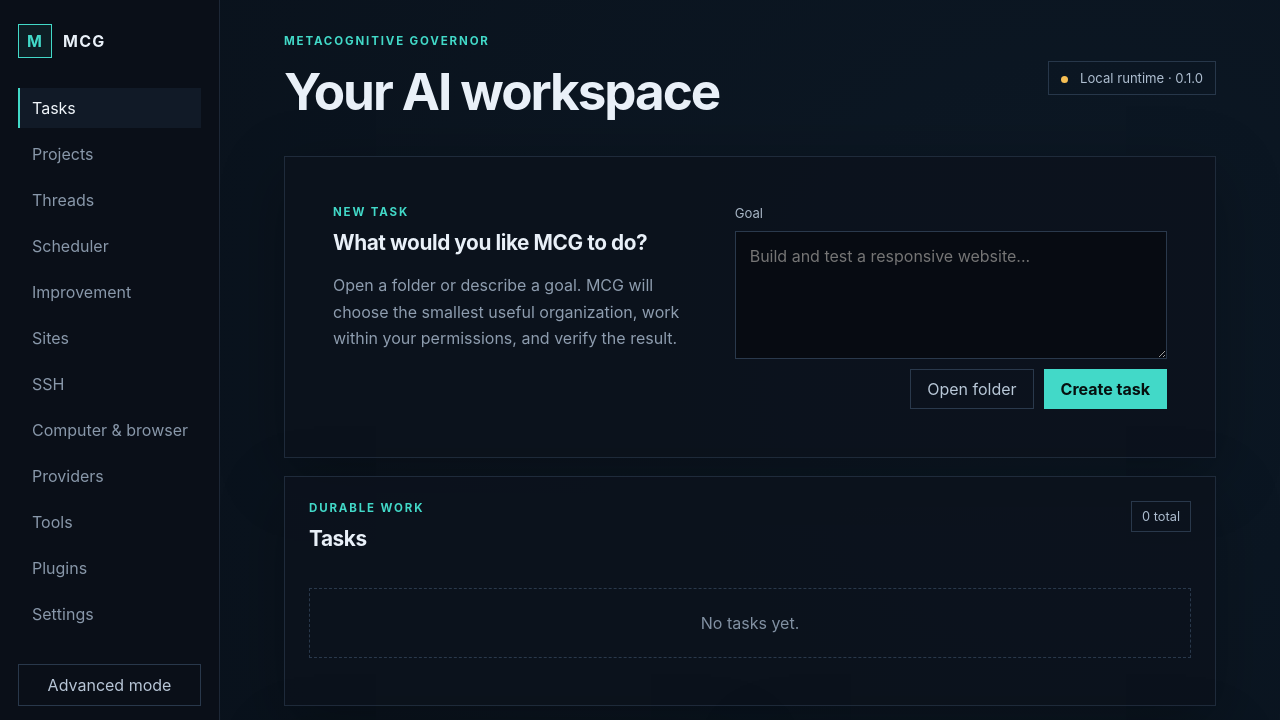
Scenario: encrypted credential backups are opt-in advanced actions with passphrase confirmation
This screenshot has width=1280, height=720.
Expected: the field labelled "Encrypted credential backup" is not shown
Click the button "Advanced mode": coordinates (110, 685) [18,664,201,706]
(page scrolled)
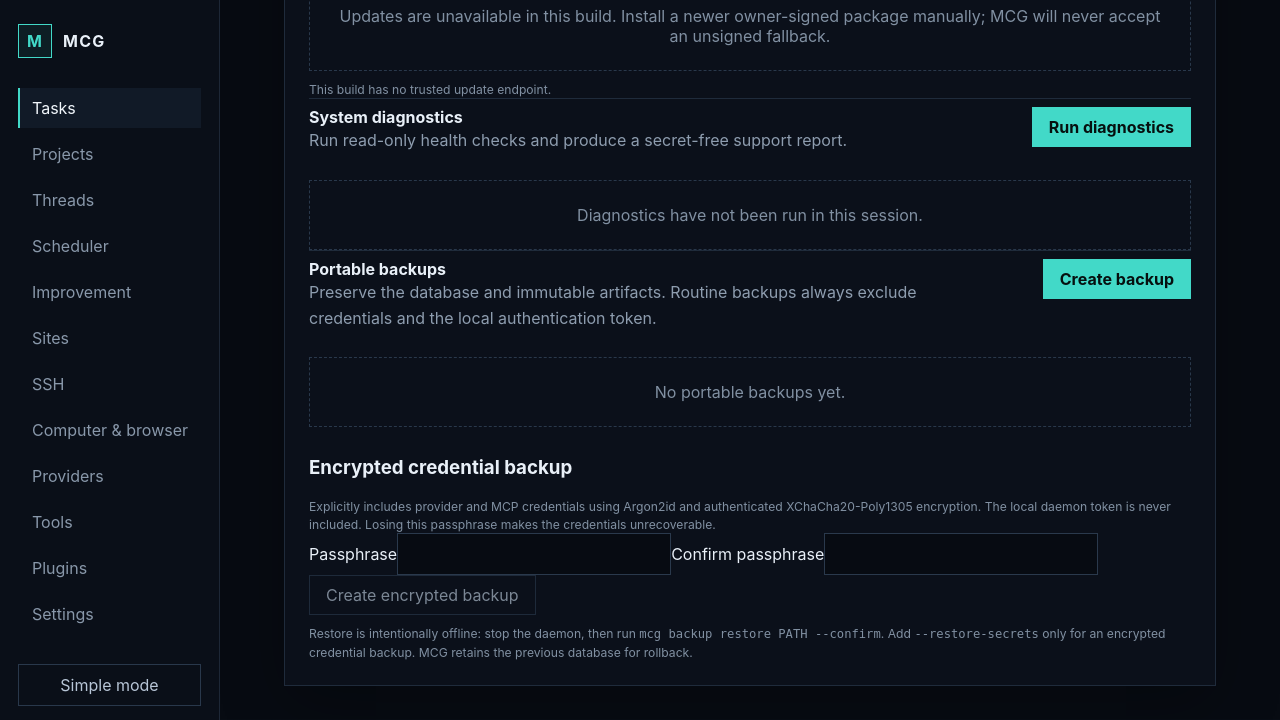
Result: the button "Simple mode" is shown at [18,664,201,706]
In the password field labelled "Passphrase": coordinates (534, 554) [397,533,671,575], type "correct horse battery staple"
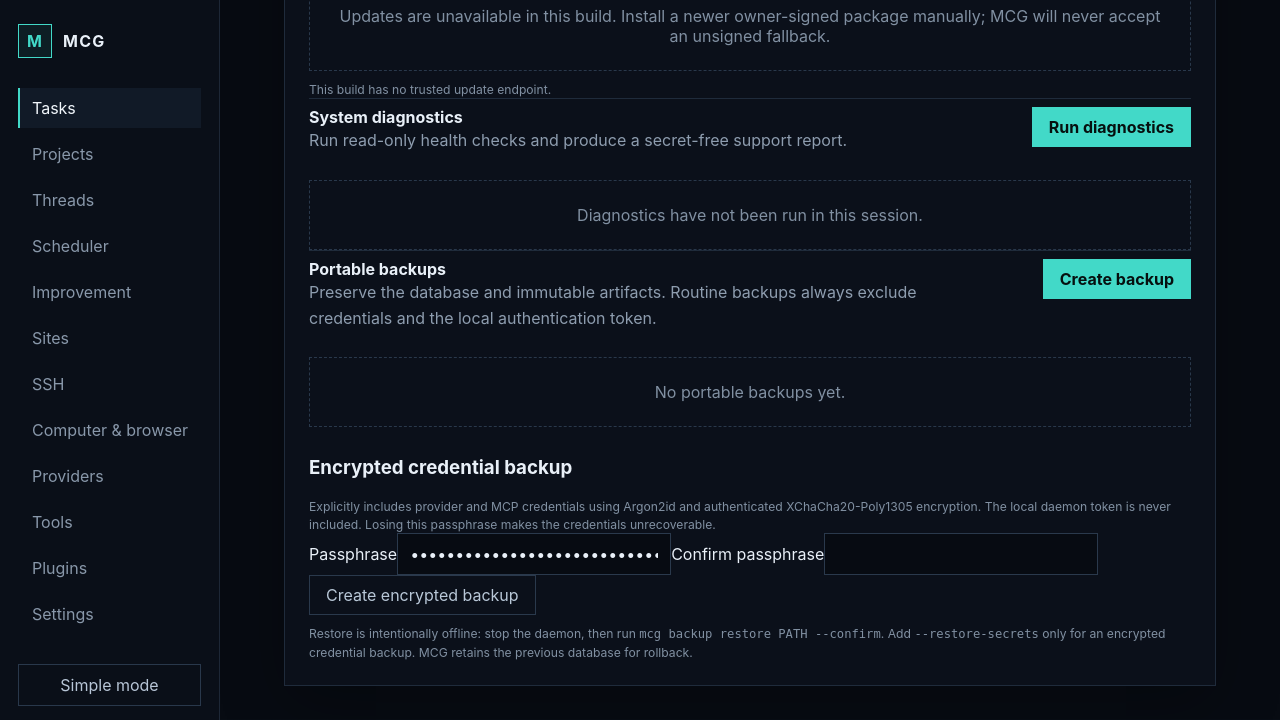
In the password field labelled "Confirm passphrase": coordinates (961, 554) [824,533,1098,575], type "different secure passphrase"
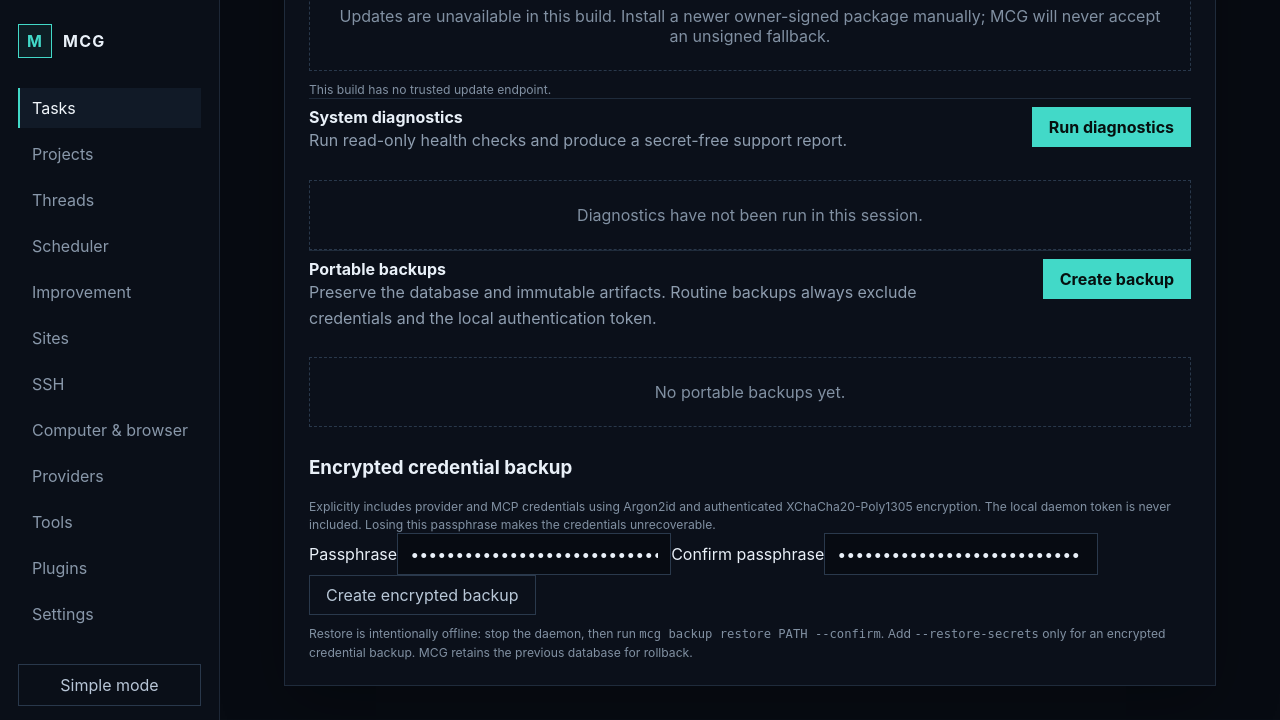
Click the button "Create encrypted backup": coordinates (422, 595) [309,575,536,615]
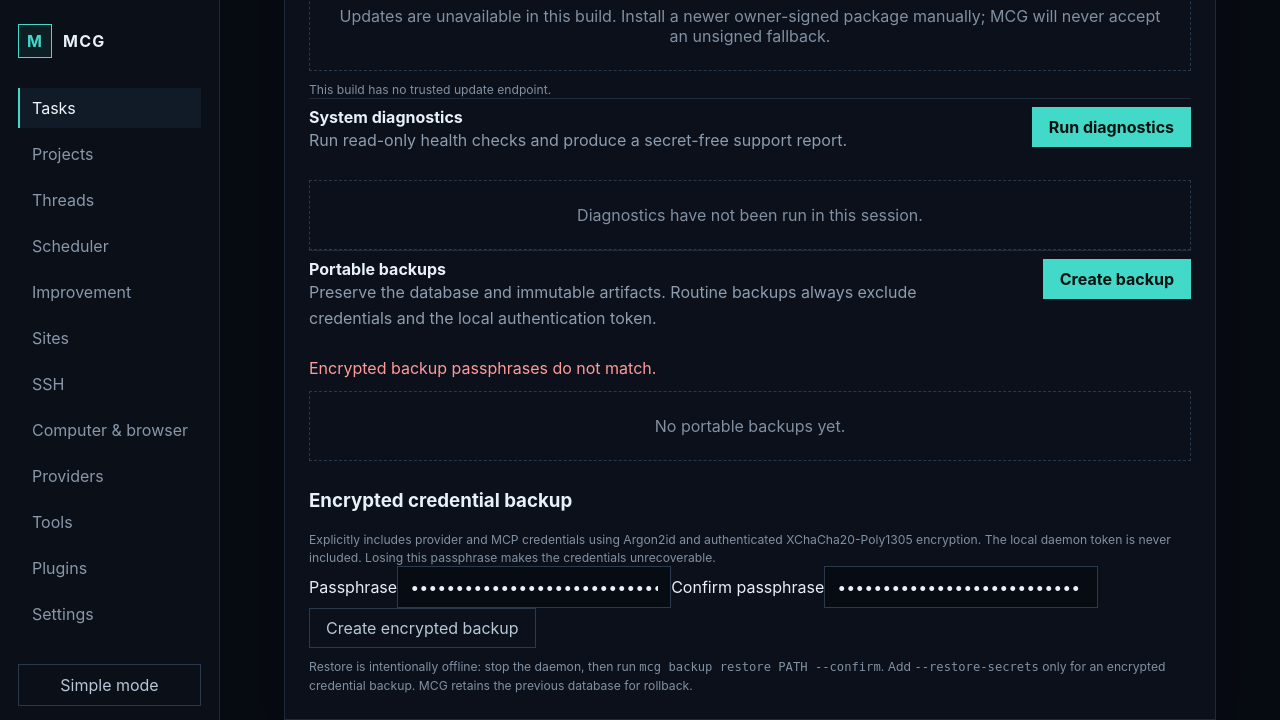
Result: the text "Encrypted backup passphrases do not match." is shown at [309,358,656,378]
In the password field labelled "Confirm passphrase": coordinates (961, 587) [824,566,1098,608], type "correct horse battery staple"
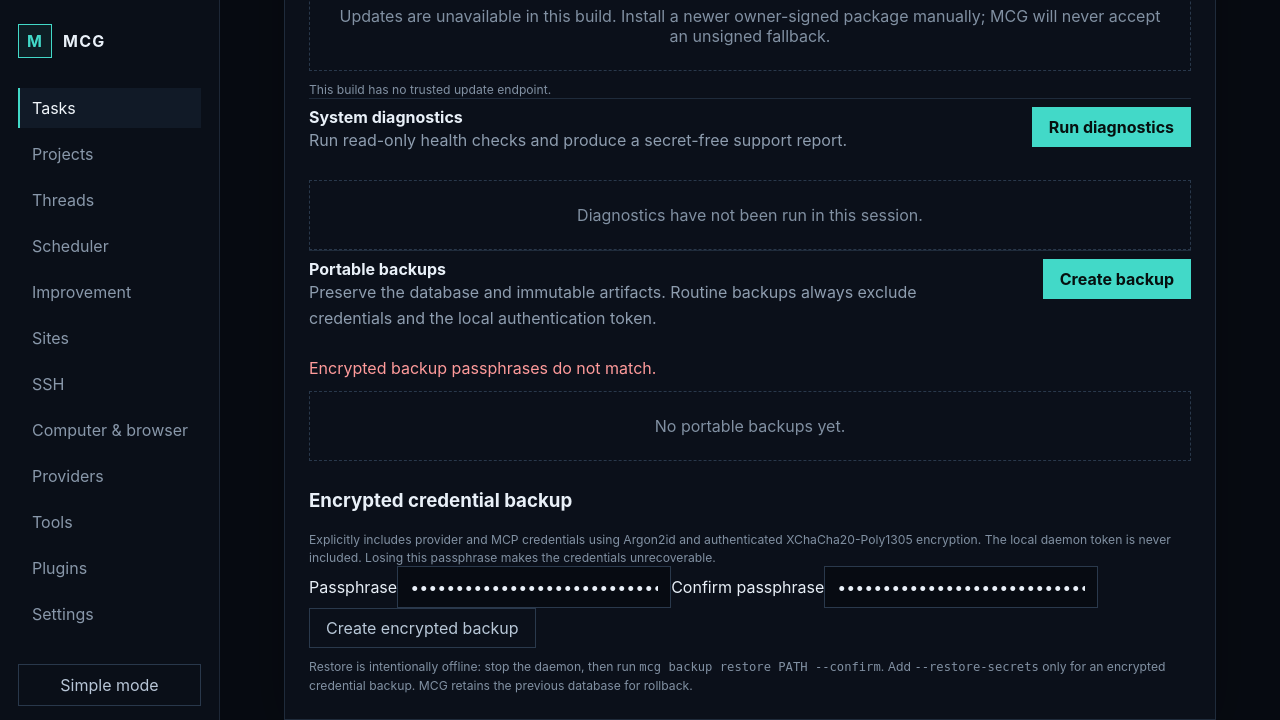
Click the button "Create encrypted backup": coordinates (422, 628) [309,608,536,648]
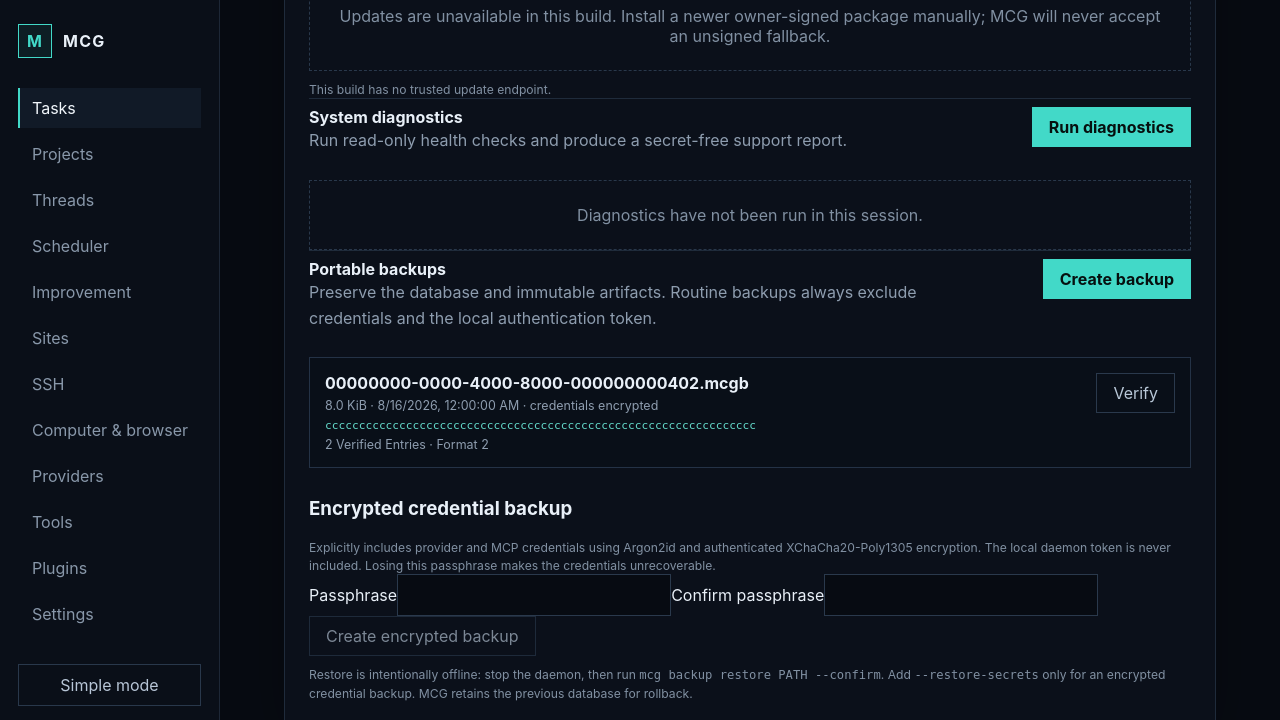
Result: the heading "00000000-0000-4000-8000-000000000402.mcgb" is shown at [325,374,749,394]
Result: the text "8.0 KiB · 8/16/2026, 12:00:00 AM · credentials encrypted" is shown at [325,398,658,414]
Result: the password field labelled "Passphrase" is empty at [397,574,671,616]
